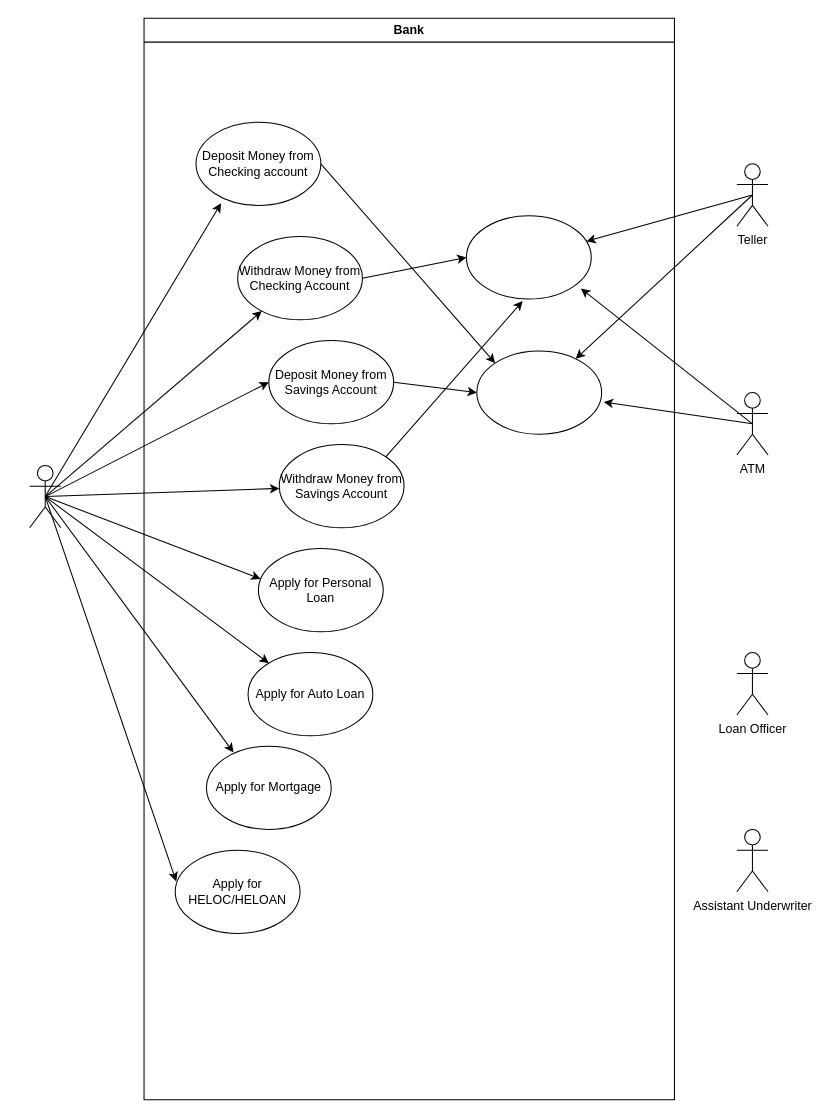
Some shapes in this 830 by 1118 pixel diagram are drawn without their labels. Here are the shapes that lost their labels. From the top down, the centre of each, then its label:
At pixel 528 257: "Withdraw Amount requested".
At pixel 539 392: "Deposit Amount received into Account requested".
At pixel 45 496: "Customer".
